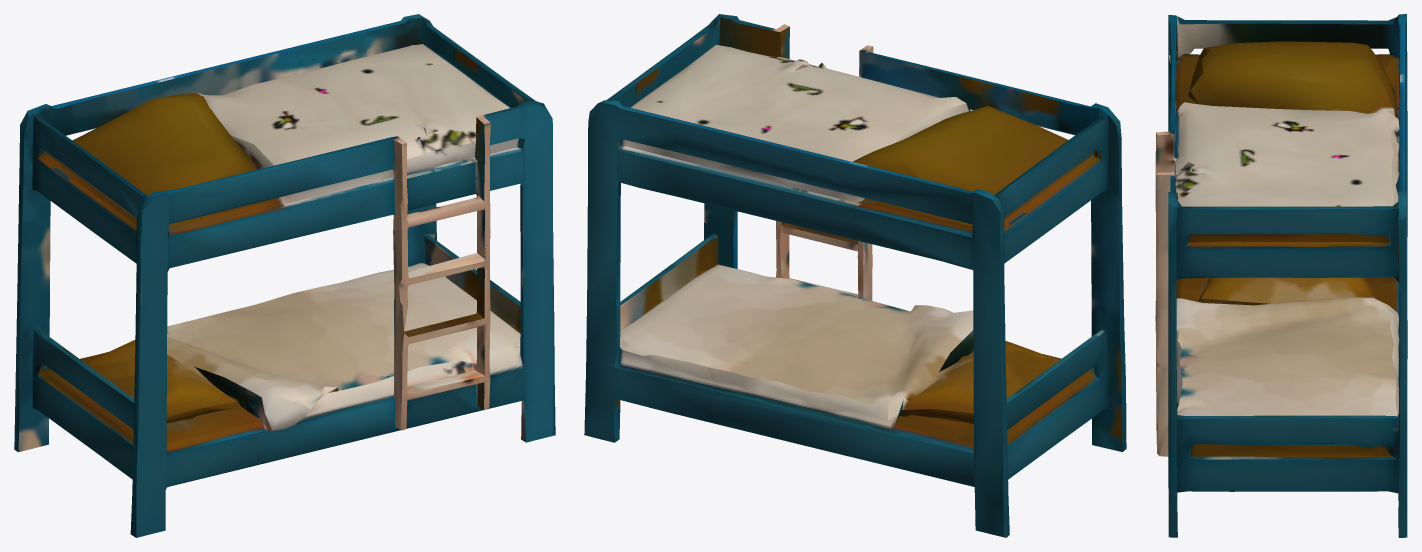
Rendered from LitSuperpose2_3D_textured.glb.
The picture shows the model from 3 angles, left to right: view 1: azimuth 30°, elevation 25°; view 2: azimuth 150°, elevation 25°; view 3: azimuth 270°, elevation 25°; orthographic projection.
Parts seen in each view (by area): view 1: temp_mesh.ply; view 2: temp_mesh.ply; view 3: temp_mesh.ply.
Boxes of the visible parts, x1,y1,x2,y2 form: temp_mesh.ply: [14, 14, 555, 537]; temp_mesh.ply: [584, 14, 1126, 537]; temp_mesh.ply: [1155, 14, 1407, 537].
Size of the model in its own units: 1.97 by 1.52 by 1.04.
Materials: 1 (1 with a texture image).
